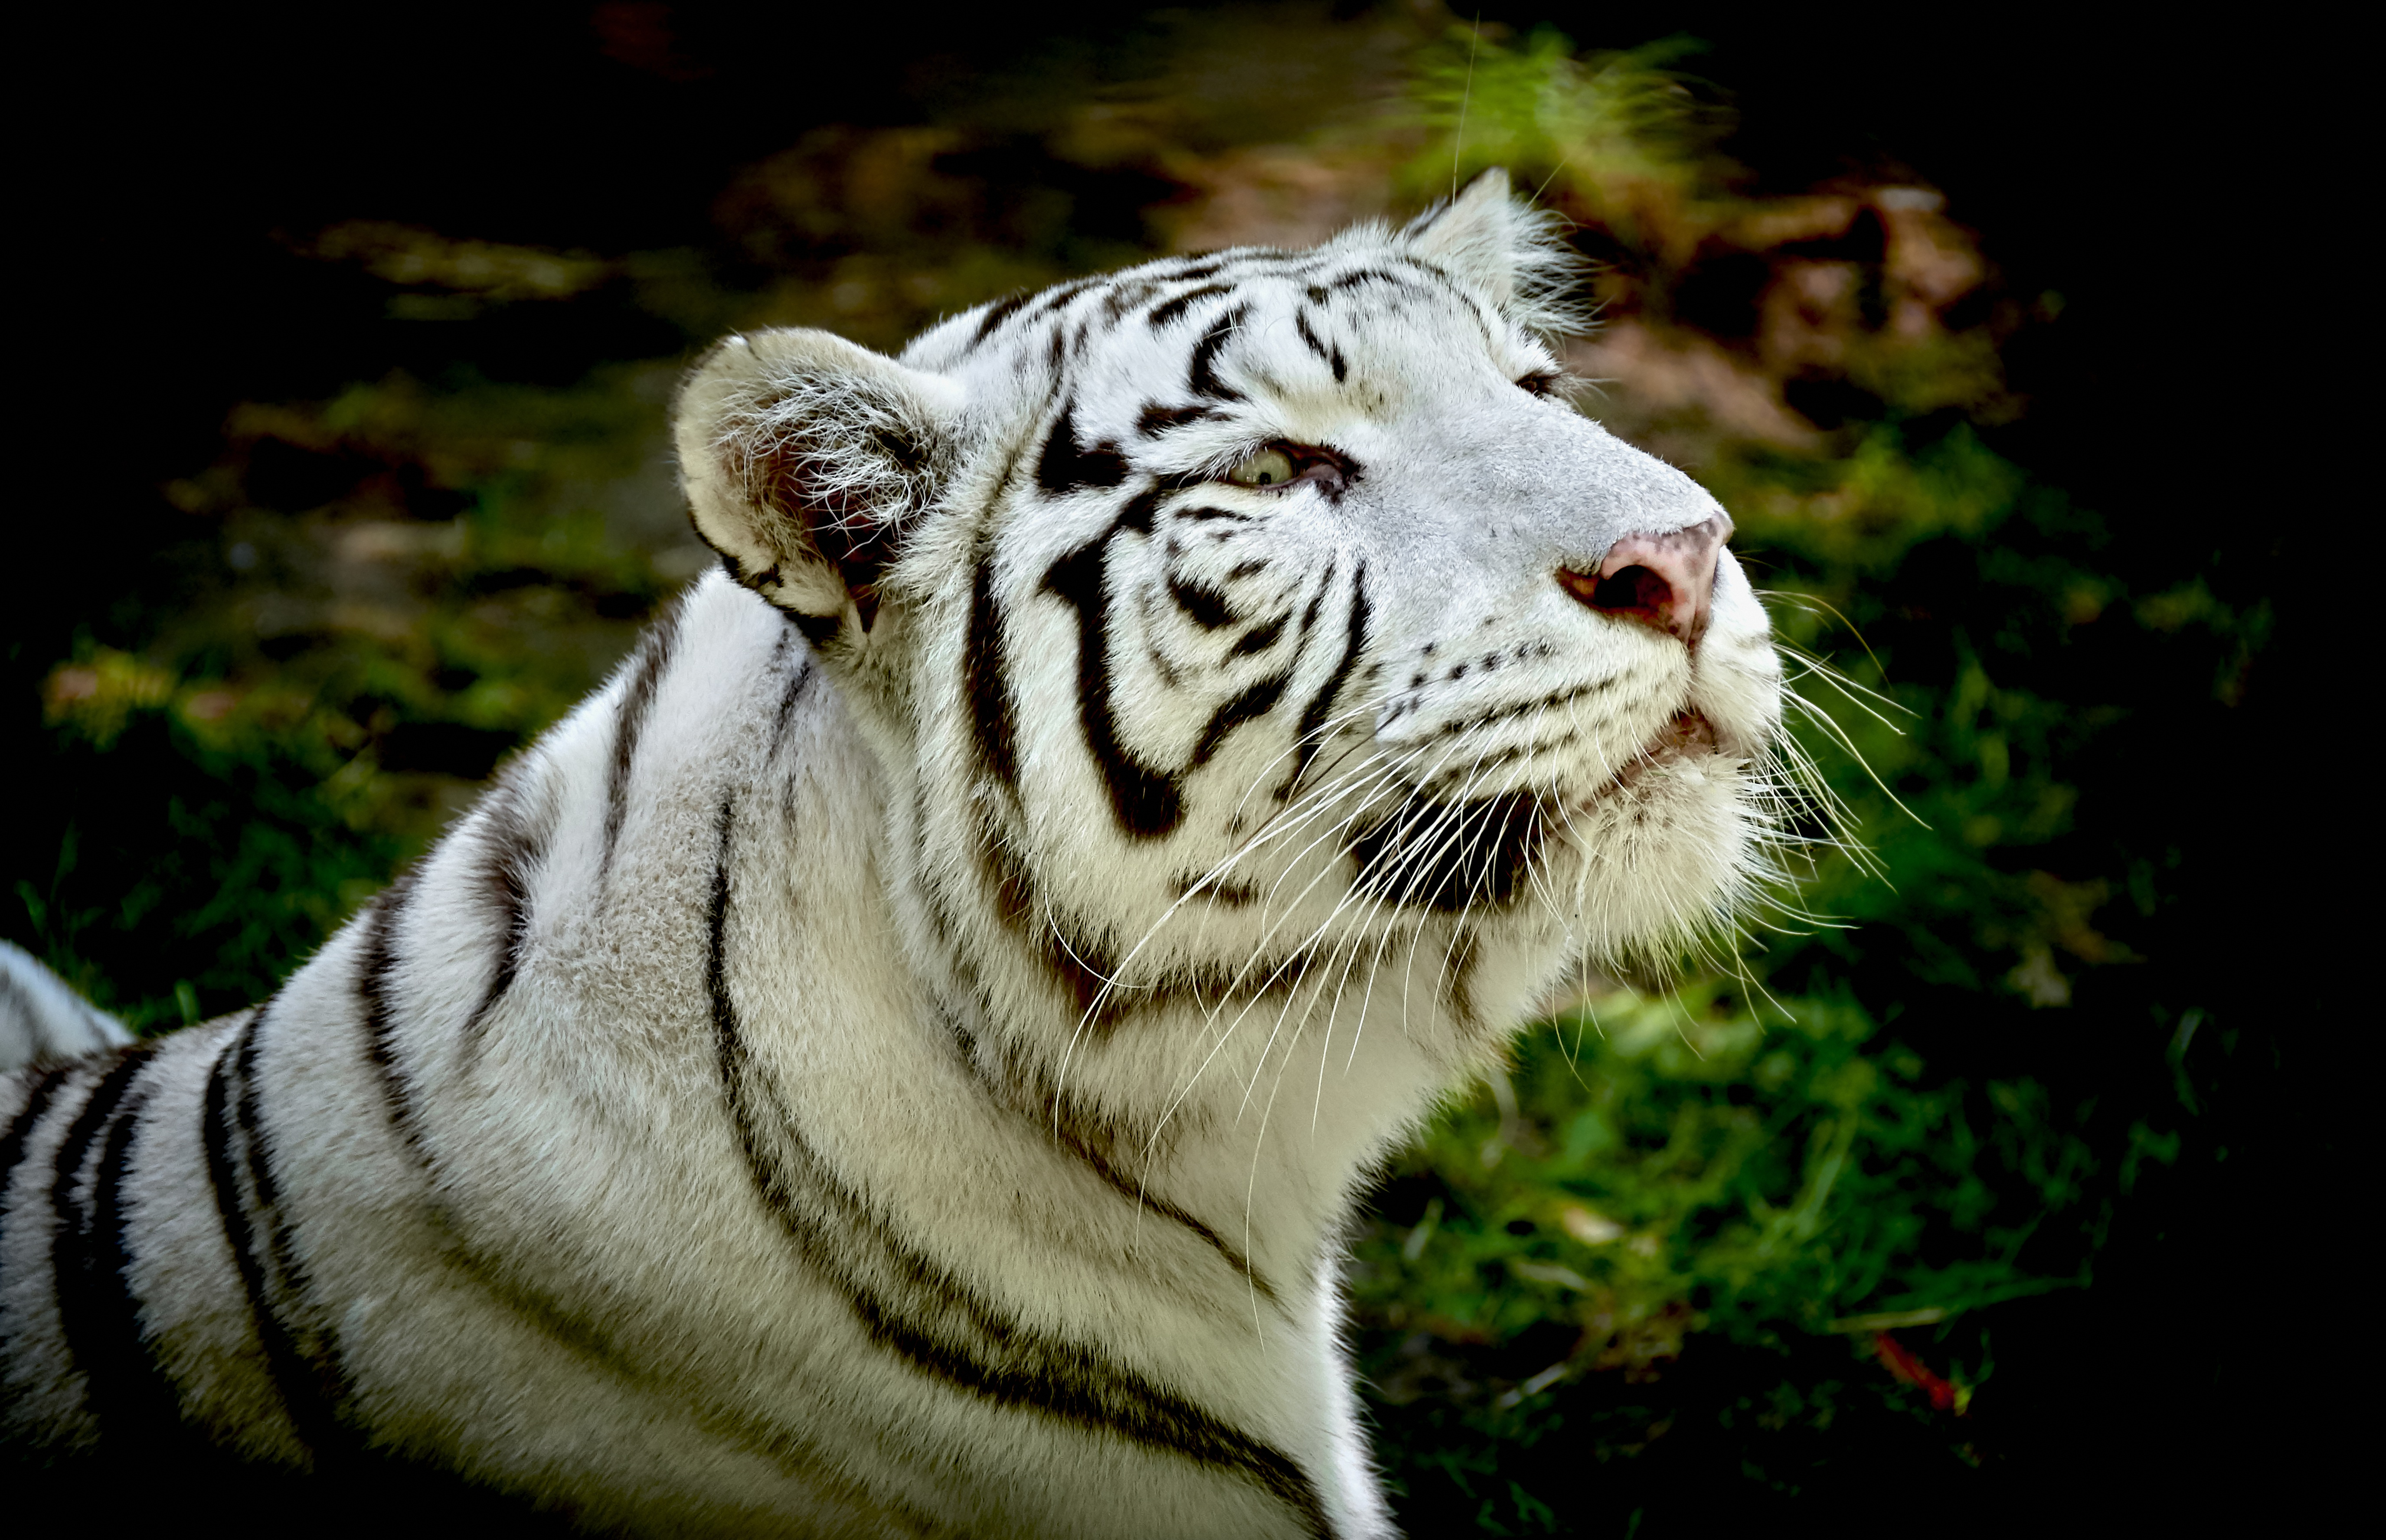tiger: (21, 56, 1863, 1519)
